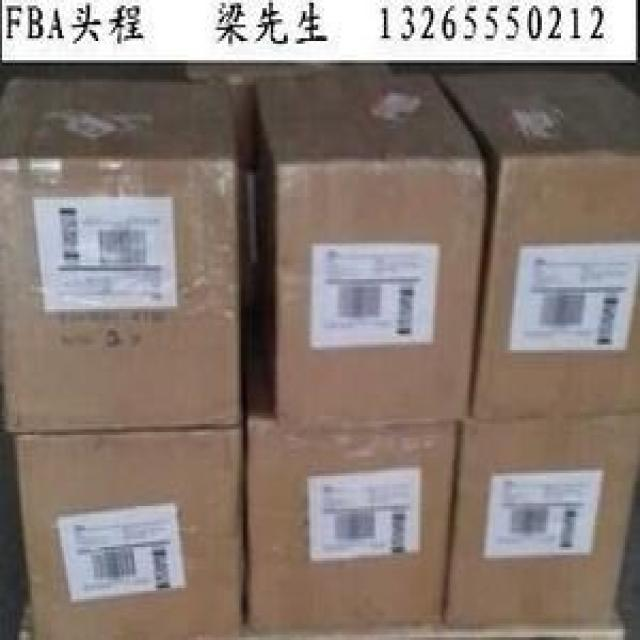box: (0, 77, 243, 435), (252, 71, 489, 432), (429, 63, 640, 421), (243, 377, 457, 635), (15, 427, 243, 640), (444, 413, 640, 629)
